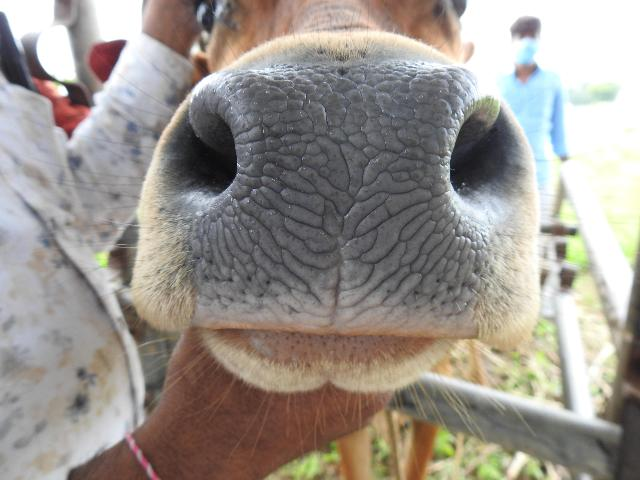Muzzle: (240, 74, 446, 330)
